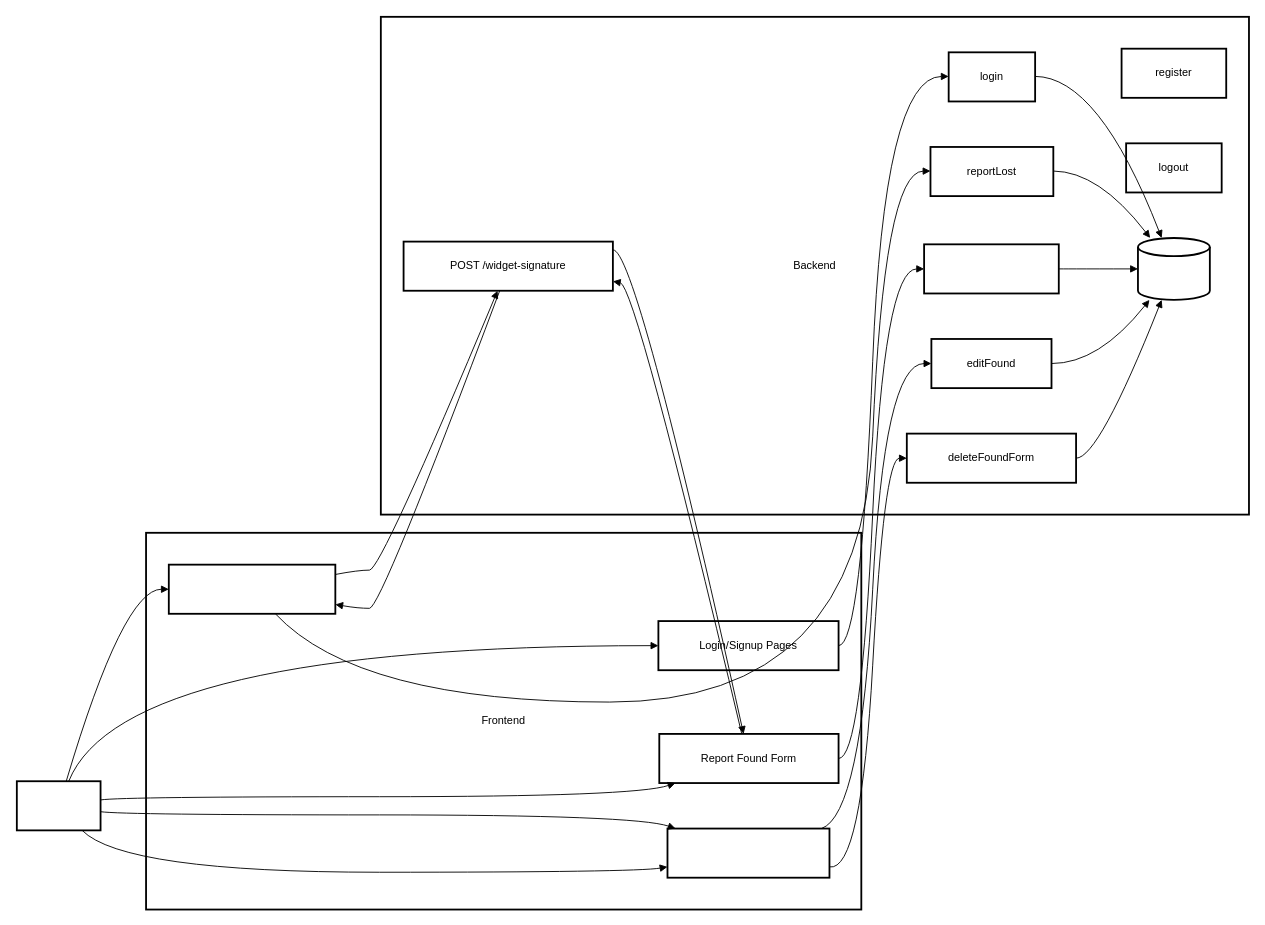
The diagram is 1265 pixels wide and 925 high, and some of its shapes have lost their labels. Each missing label, with the centre of its shape:
"Edit Found Form" goes at point 748,852.
"MongoDB" goes at point 1173,268.
"Report Lost Form" goes at point 251,588.
"reportFound" goes at point 991,268.
"User" goes at point 58,805.
